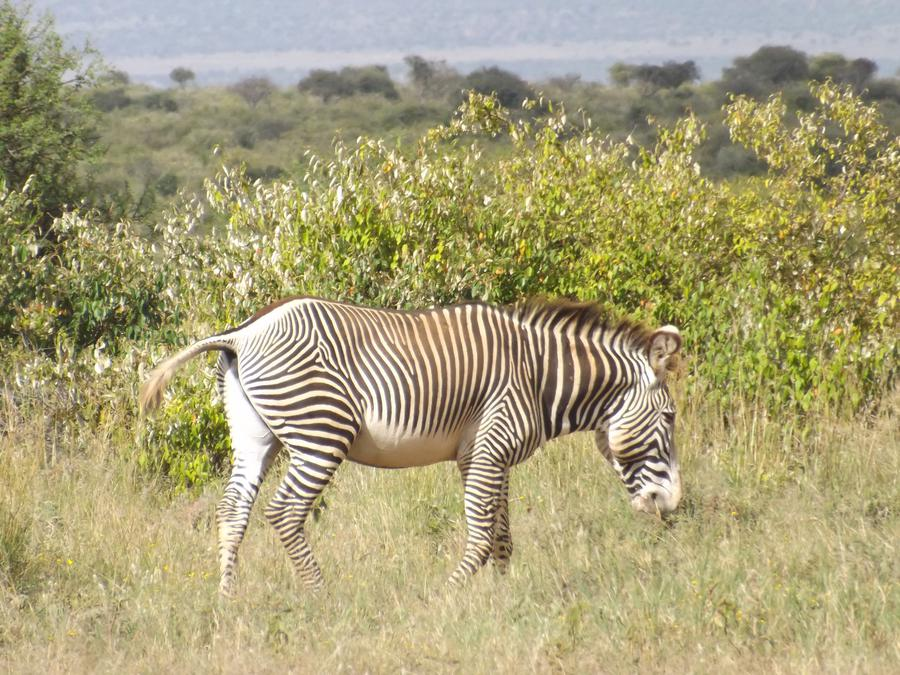zebra_grevys: (222, 294, 519, 472)
